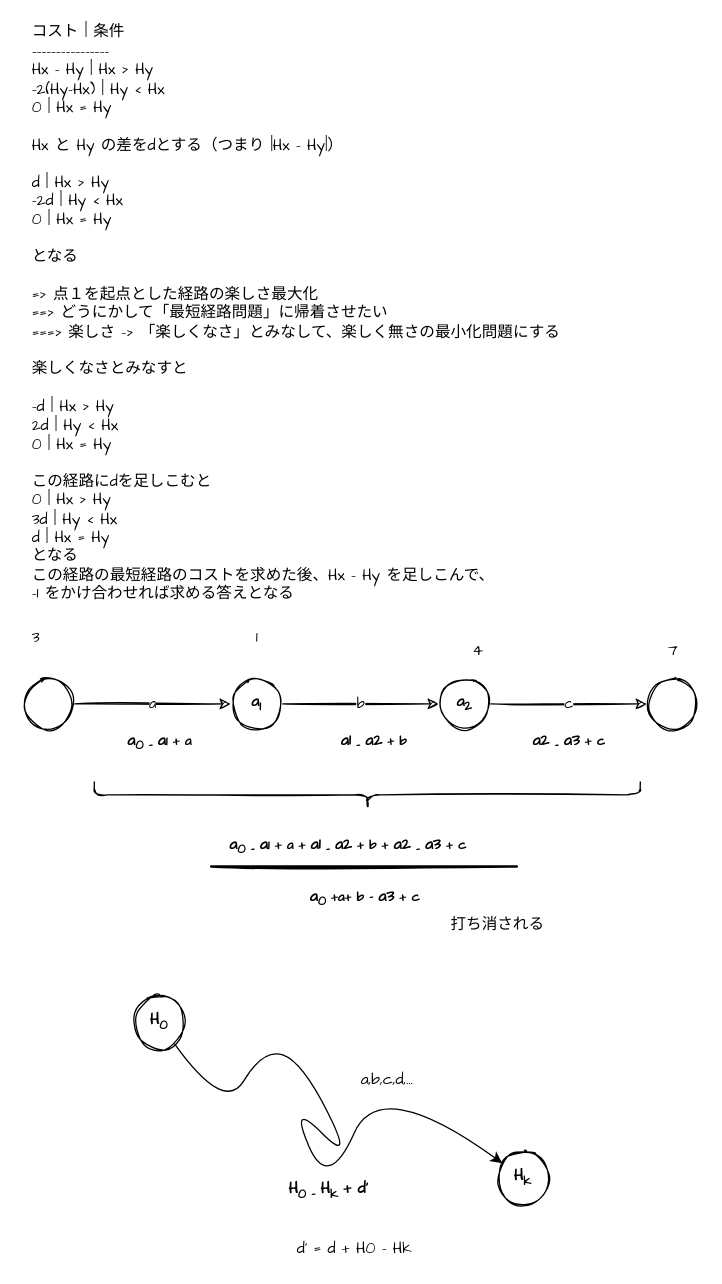
Image size: 722x1284. Some labels were removed from this diagram. The centre of each missing label's shape, as x and y in pixels:
"a 0" goes at [48,703].
"a 3" goes at [672,703].
